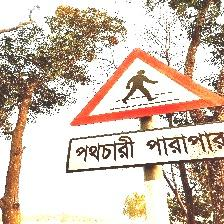Pedestrian-crossing: (67, 48, 224, 175)
